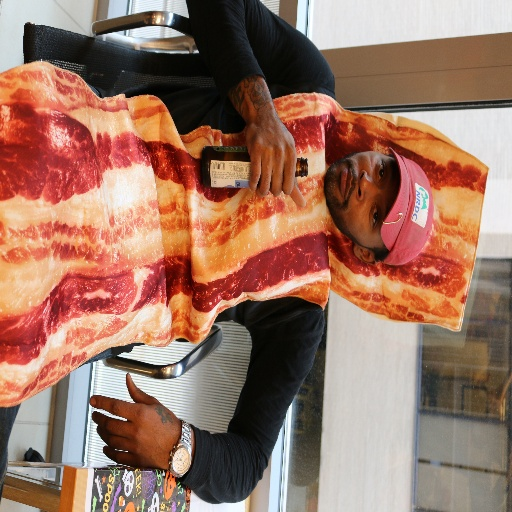hand: (85, 382, 183, 467), (244, 112, 308, 207)
